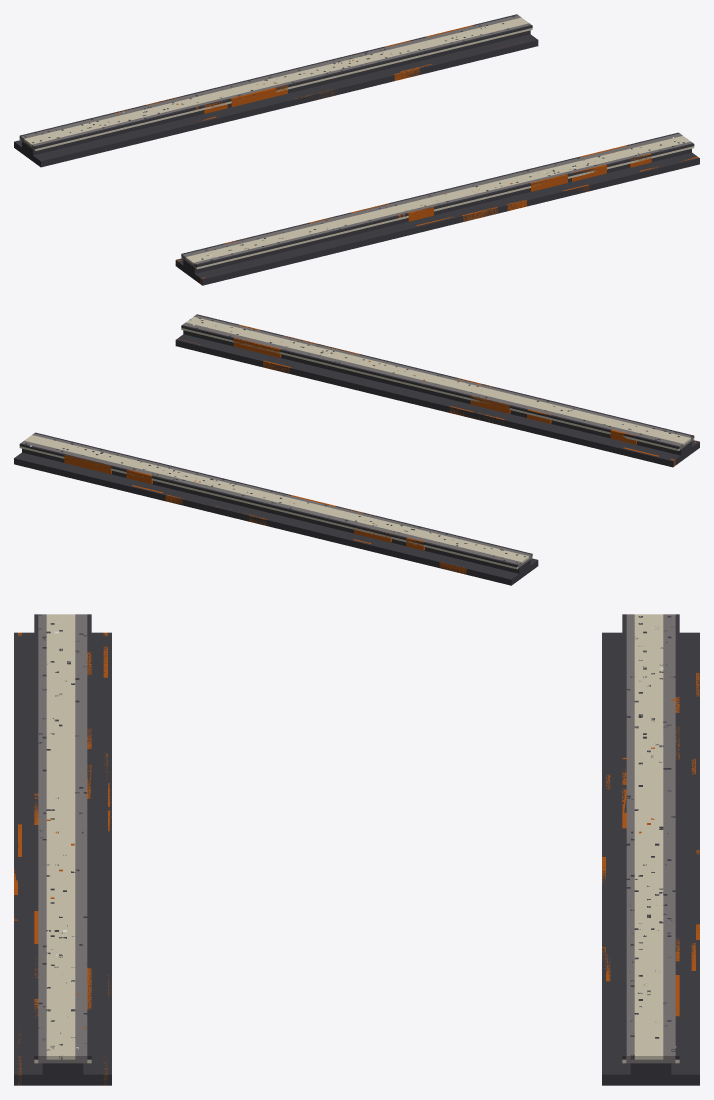
Rendered from track_rails.glb.
The picture shows the model from 3 angles, top to bottom: view 1: azimuth 30°, elevation 25°; view 2: azimuth 150°, elevation 25°; view 3: azimuth 270°, elevation 25°; orthographic projection. The views are drawn at different scales.
Parts seen in each view (by area): view 1: Untitled, Untitled.001, Untitled.003, Untitled.002; view 2: Untitled, Untitled.001, Untitled.003, Untitled.002; view 3: Untitled, Untitled.001, Untitled.003, Untitled.002.
Boxes of the visible parts, x1,y1,x2,y2 form: Untitled: (14, 14, 538, 167); Untitled.001: (175, 132, 699, 285); Untitled.003: (175, 133, 699, 284); Untitled.002: (15, 15, 536, 166); Untitled: (14, 432, 538, 585); Untitled.001: (175, 314, 698, 467); Untitled.003: (175, 316, 699, 465); Untitled.002: (14, 433, 537, 584); Untitled: (602, 614, 699, 1085); Untitled.001: (14, 614, 111, 1085); Untitled.003: (14, 614, 111, 1085); Untitled.002: (602, 614, 699, 1074).
Bounding box in the file's own units: 25.6 × 0.8 × 16.8.
4 materials, 4 textured.
